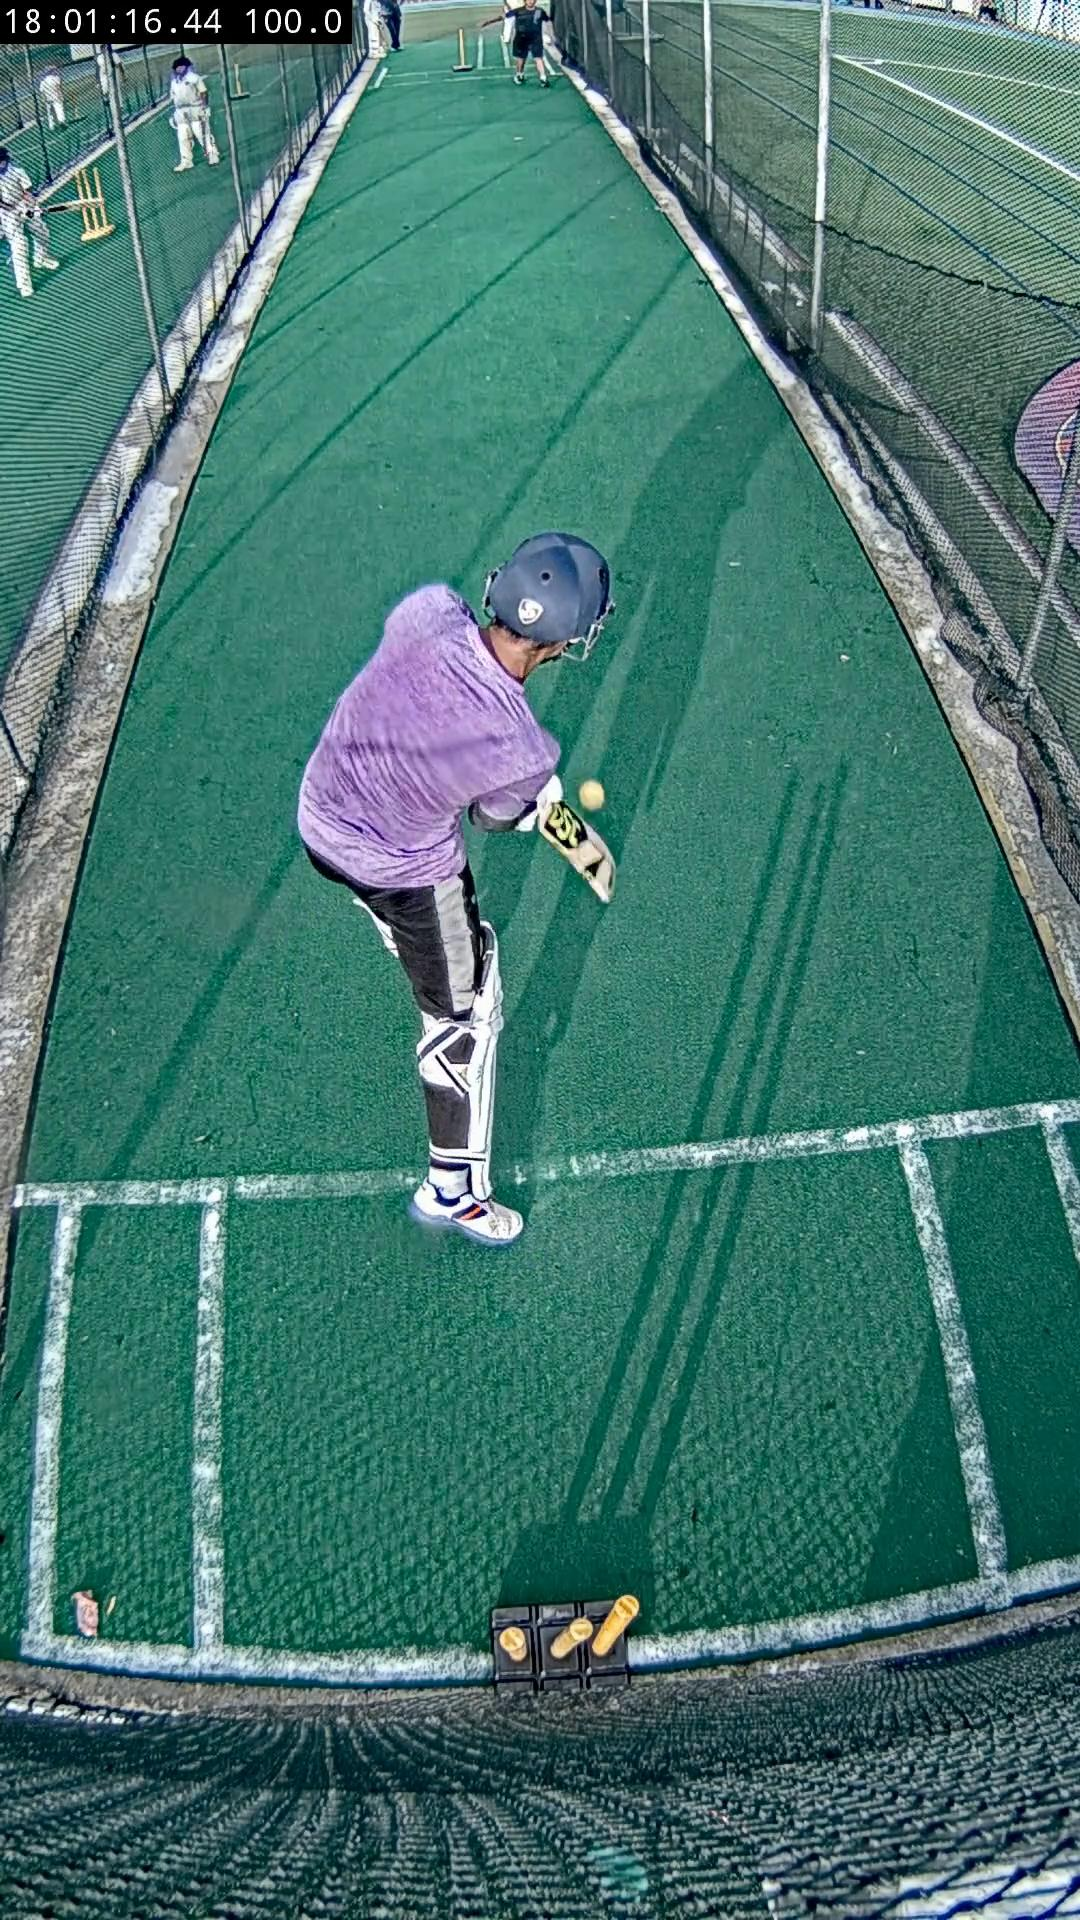ball: (578, 781, 604, 810)
bat: (541, 803, 615, 903)
gloves: (514, 777, 563, 832)
helmet: (484, 533, 612, 654)
pads: (458, 923, 502, 1200)
stumps: (492, 1594, 637, 1692)
